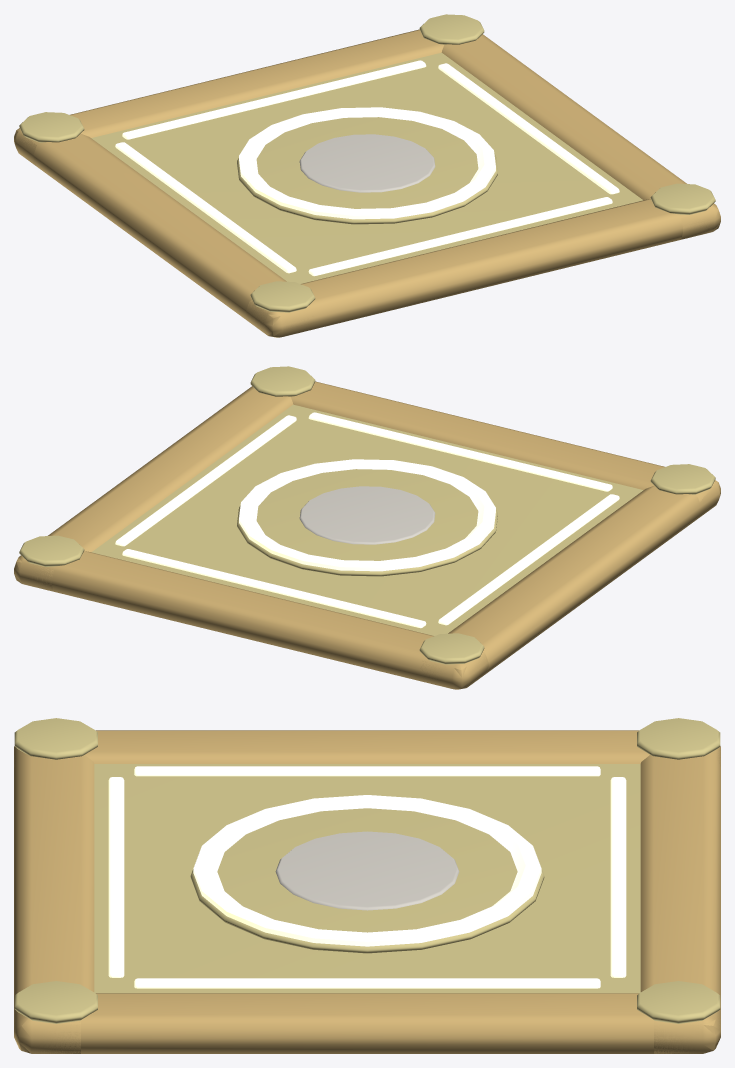
File: collectPlate.glb
3 views of the same model, one above another, from view 1: azimuth 30°, elevation 25°; view 2: azimuth 150°, elevation 25°; view 3: azimuth 270°, elevation 25° (orthographic). The views are drawn at different scales.
Visible parts, largest first — view 1: Body, Glow_FFE066; view 2: Body, Glow_FFE066; view 3: Body, Glow_FFE066.
Boxes of the visible parts, left/top/right/bottom form: Body: left=14, top=14, right=720, bottom=337; Glow_FFE066: left=115, top=60, right=619, bottom=276; Body: left=14, top=366, right=720, bottom=689; Glow_FFE066: left=115, top=412, right=619, bottom=628; Body: left=14, top=718, right=720, bottom=1053; Glow_FFE066: left=108, top=766, right=626, bottom=988.
Size of the model in its own units: 10.04 by 0.7141 by 10.
